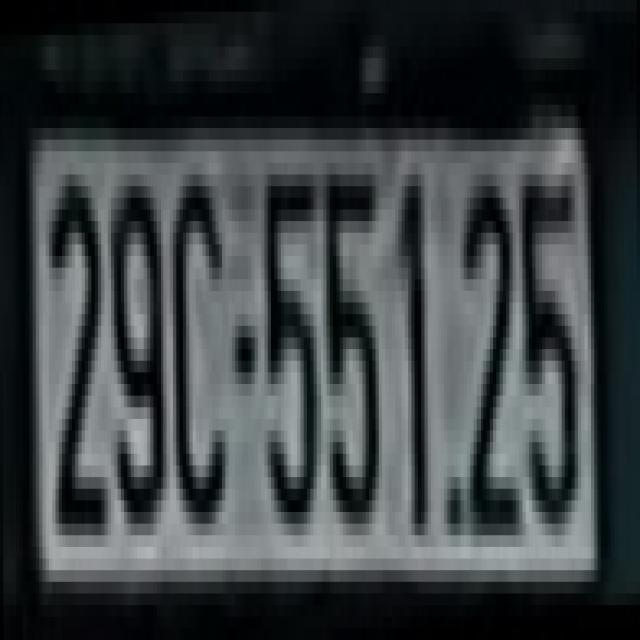1: (395, 162, 434, 536)
2: (460, 174, 520, 536), (49, 174, 108, 536)
5: (522, 162, 582, 536), (261, 163, 320, 524), (323, 163, 382, 524)
9: (111, 174, 163, 524)
C: (174, 163, 228, 524)
